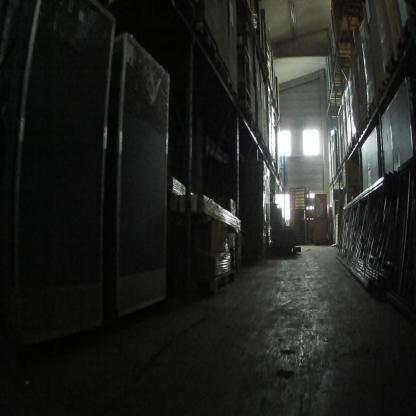pallet: (199, 27, 217, 61), (376, 72, 390, 98), (216, 57, 229, 82), (336, 42, 353, 57), (239, 101, 253, 119), (229, 78, 239, 100), (368, 97, 378, 118), (248, 120, 257, 136), (332, 77, 345, 87), (330, 93, 342, 100), (356, 125, 362, 138), (330, 100, 341, 107), (348, 143, 352, 152), (345, 151, 349, 159), (277, 174, 281, 180), (273, 168, 276, 175), (330, 179, 332, 185)
